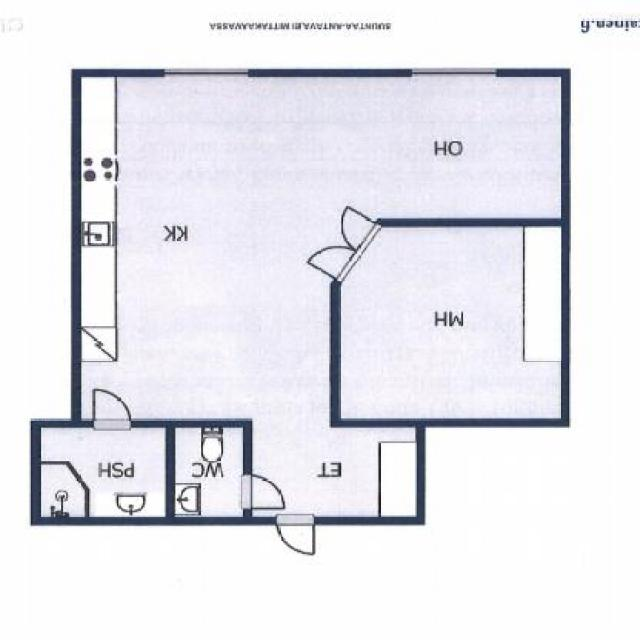door: (298, 197, 394, 289), (89, 389, 142, 440), (275, 512, 320, 562), (237, 474, 289, 511)
window: (163, 68, 246, 78), (414, 70, 495, 78)
zone: (80, 75, 555, 517), (318, 211, 562, 418), (40, 424, 165, 516), (177, 426, 243, 520), (40, 463, 91, 519)
